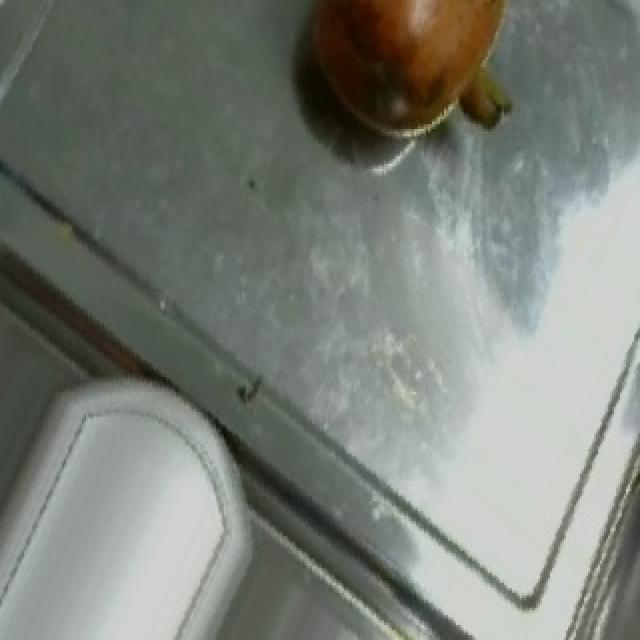fruit: (280, 0, 538, 174)
